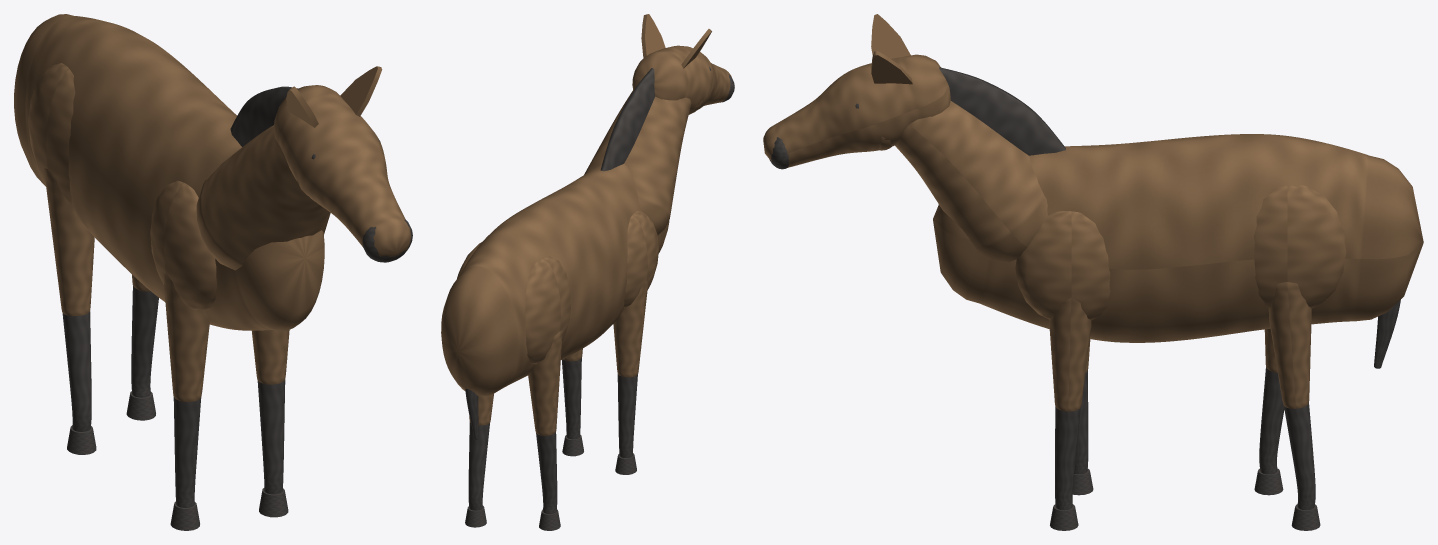
The model's file is farm-and-working-animals-hd-pony-c5a7a39e__29171.glb.
3 views of the same model, side by side, from view 1: azimuth 30°, elevation 25°; view 2: azimuth 150°, elevation 25°; view 3: azimuth 270°, elevation 25° (orthographic). The views are drawn at different scales.
Parts seen in each view (by area): view 1: pony; view 2: pony; view 3: pony.
Boxes of the visible parts, <box> form: pony: <box>14,14,412,530</box>; pony: <box>441,14,734,530</box>; pony: <box>763,14,1423,530</box>.
Size of the model in its own units: 0.4536 by 1.72 by 2.17.
2 materials, 2 textured.
